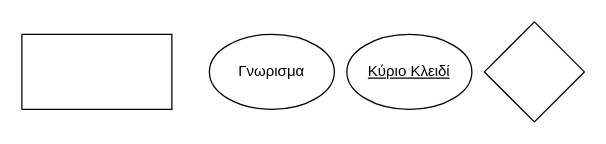
The diagram is 606 pixels wide and 144 high, and some of its shapes have lost their labels. The centre of each missing label's shape, as x and y in pixels:
"Οντοτητα" belongs at [96,71].
"Συσχέτιση" belongs at [533,71].
